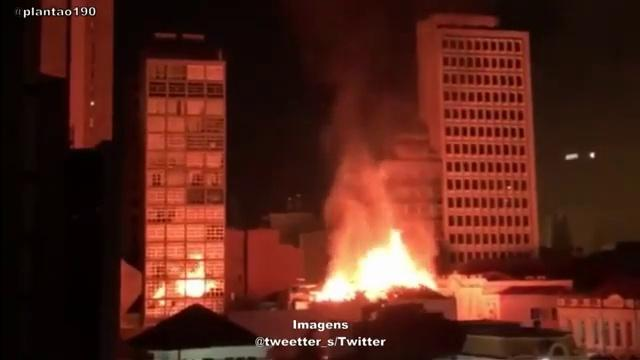fire: (365, 243, 426, 286), (324, 274, 359, 301)
